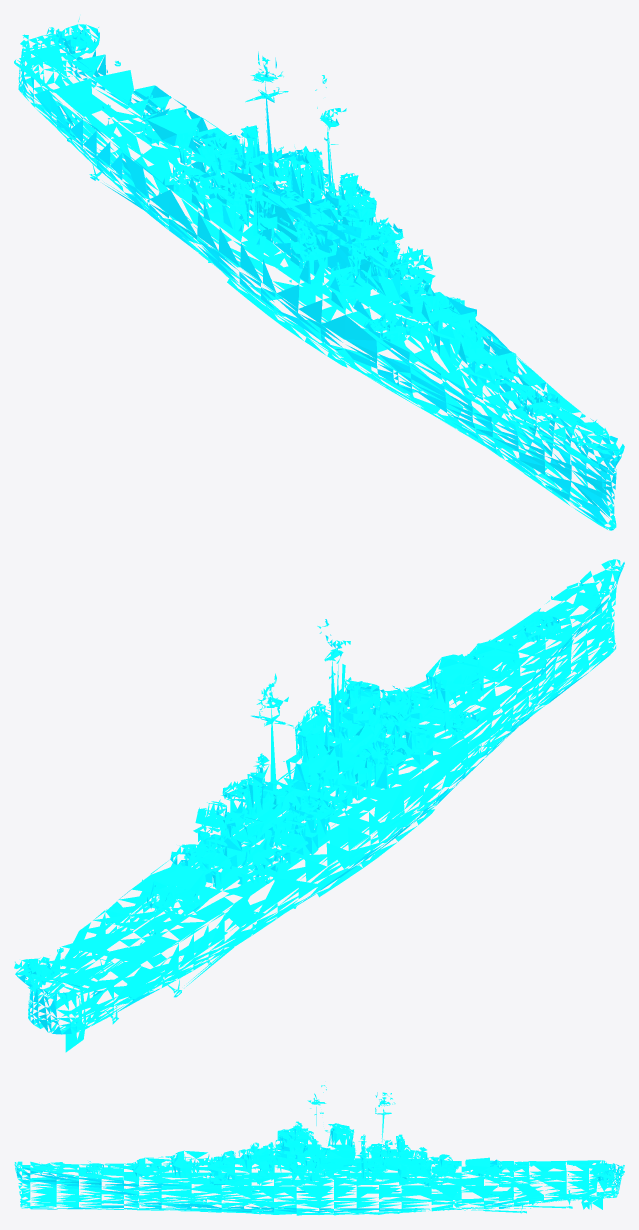
File: Cambridge.glb
3 views of the same model, one above another, from view 1: azimuth 30°, elevation 25°; view 2: azimuth 150°, elevation 25°; view 3: azimuth 270°, elevation 25° (orthographic). The views are drawn at different scales.
Bounding box in the file's own units: 1.45 × 3.2 × 13.74.
